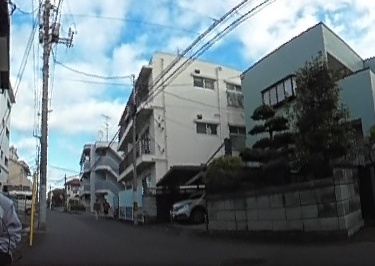person: (101, 197, 111, 217), (92, 197, 102, 216)
